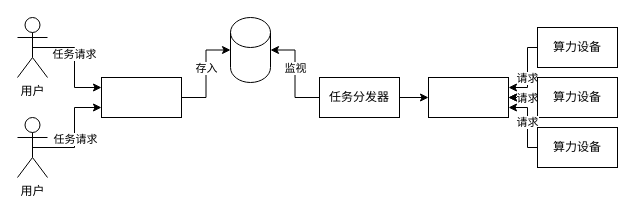
The diagram is 635 pixels wide and 216 high, and some of its shapes have lost their labels. Each missing label, with the centre of its shape:
平台后端: the point at 141,97
数据 库系统: the point at 250,49
队列: the point at 468,97
